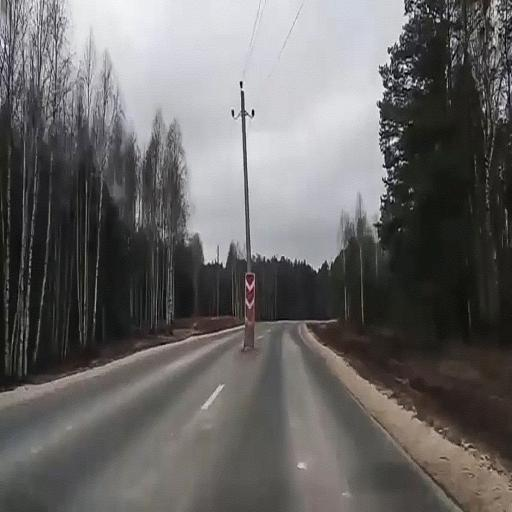Light-pole: (223, 69, 269, 357)
